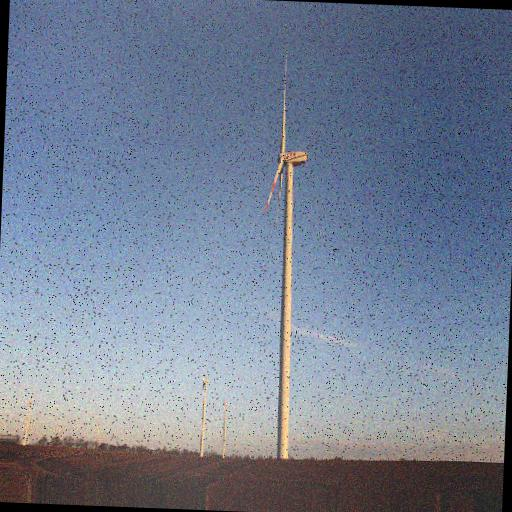wind turbine: (260, 50, 311, 461)
